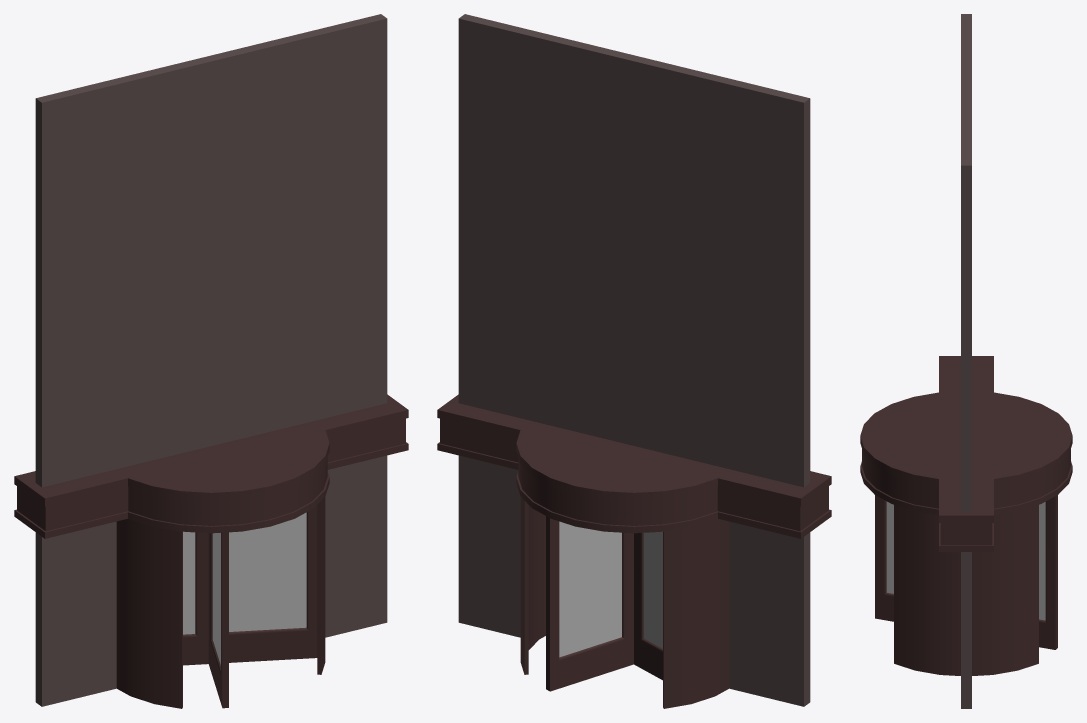
The model's file is RevolvingDoorBlockout.fbx.
The picture shows the model from 3 angles, left to right: view 1: azimuth 30°, elevation 25°; view 2: azimuth 150°, elevation 25°; view 3: azimuth 270°, elevation 25°; orthographic projection. The views are drawn at different scales.
Parts seen in each view (by area): view 1: RevolvingDoorWall, RevolvingDoorFrame, RevolvingDoor; view 2: RevolvingDoorWall, RevolvingDoorFrame, RevolvingDoor; view 3: RevolvingDoorFrame, RevolvingDoorWall, RevolvingDoor.
Boxes of the visible parts, left/top/right/bottom form: RevolvingDoorWall: left=35, top=14, right=387, bottom=706; RevolvingDoorFrame: left=14, top=394, right=408, bottom=708; RevolvingDoor: left=183, top=505, right=317, bottom=708; RevolvingDoorWall: left=458, top=14, right=810, bottom=706; RevolvingDoorFrame: left=437, top=394, right=831, bottom=708; RevolvingDoor: left=546, top=516, right=662, bottom=691; RevolvingDoorFrame: left=860, top=356, right=1072, bottom=675; RevolvingDoorWall: left=961, top=14, right=971, bottom=708; RevolvingDoor: left=875, top=495, right=1057, bottom=649.
Size of the model in its own units: 526 by 836 by 296.
